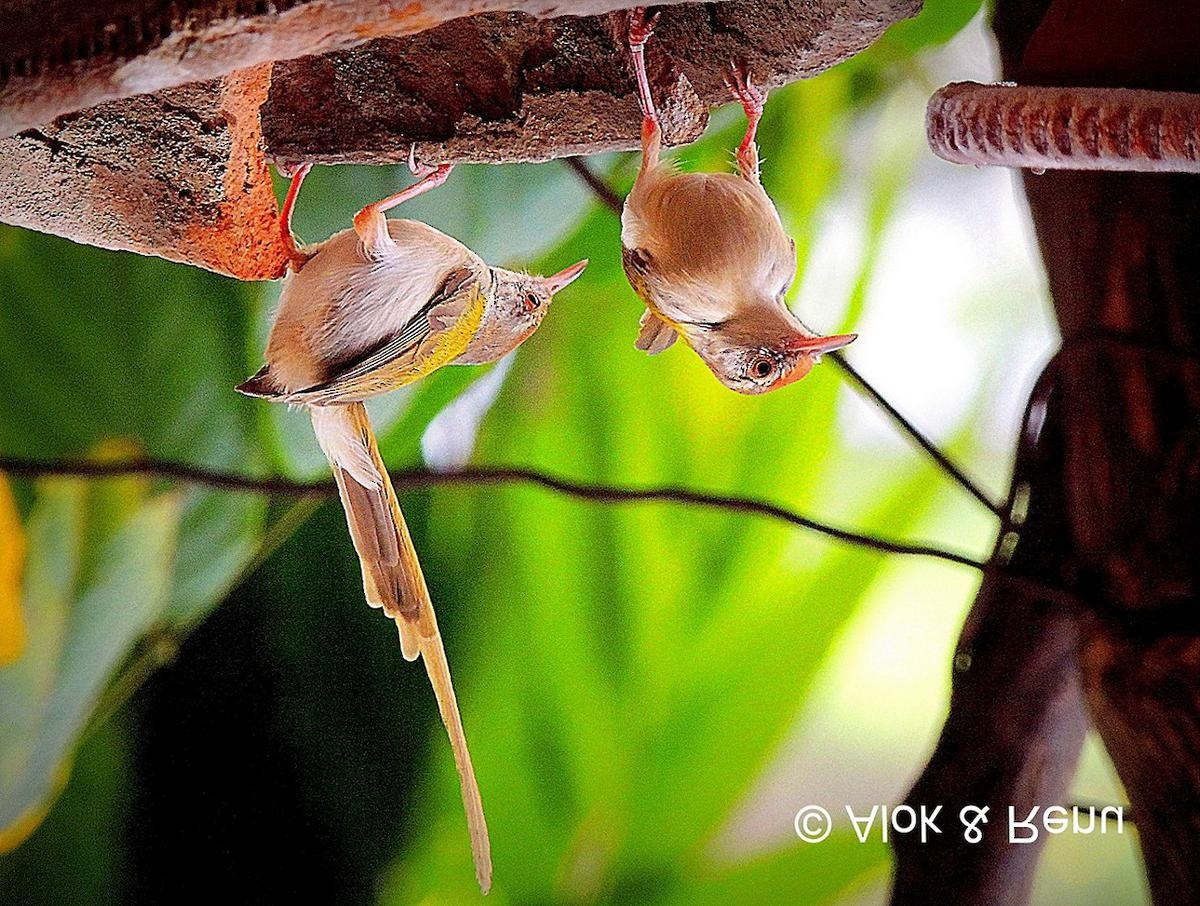tailorbird: (241, 159, 601, 744), (569, 65, 861, 414)
